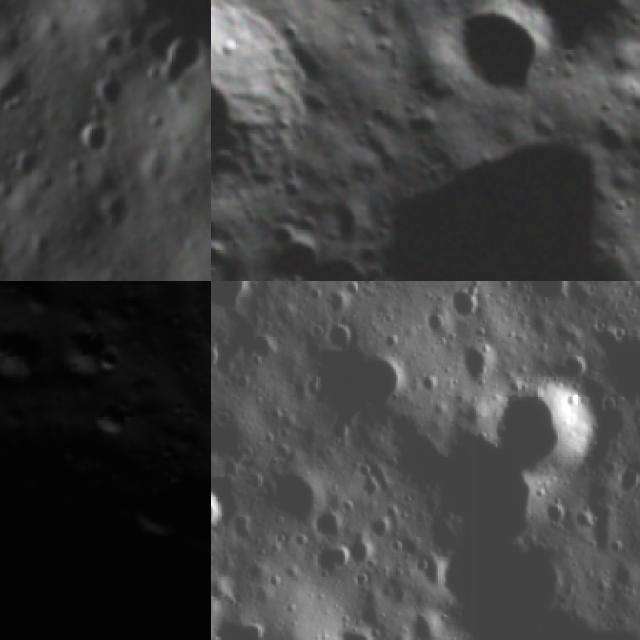crater: (297, 40, 640, 281), (211, 0, 350, 240), (431, 0, 574, 120), (495, 366, 612, 484), (482, 0, 640, 71), (126, 472, 201, 541), (260, 223, 342, 281), (348, 344, 413, 410), (591, 321, 640, 407), (261, 464, 323, 530), (151, 25, 211, 93), (309, 235, 393, 281), (0, 320, 53, 389), (0, 58, 45, 124), (394, 102, 449, 154), (90, 392, 140, 443), (61, 329, 112, 378), (70, 112, 116, 164), (589, 114, 637, 162), (310, 534, 354, 585), (454, 342, 502, 386), (92, 181, 134, 230), (395, 611, 464, 640), (87, 70, 133, 112), (15, 281, 69, 315), (211, 190, 238, 251), (296, 0, 380, 19), (211, 477, 235, 543), (602, 186, 640, 227), (211, 281, 254, 316), (96, 24, 136, 61), (211, 232, 239, 281), (454, 288, 492, 322), (528, 281, 574, 307), (362, 96, 397, 129), (322, 318, 354, 352), (423, 307, 452, 343), (196, 531, 211, 594), (335, 620, 378, 640), (211, 335, 223, 375), (278, 281, 315, 293)
